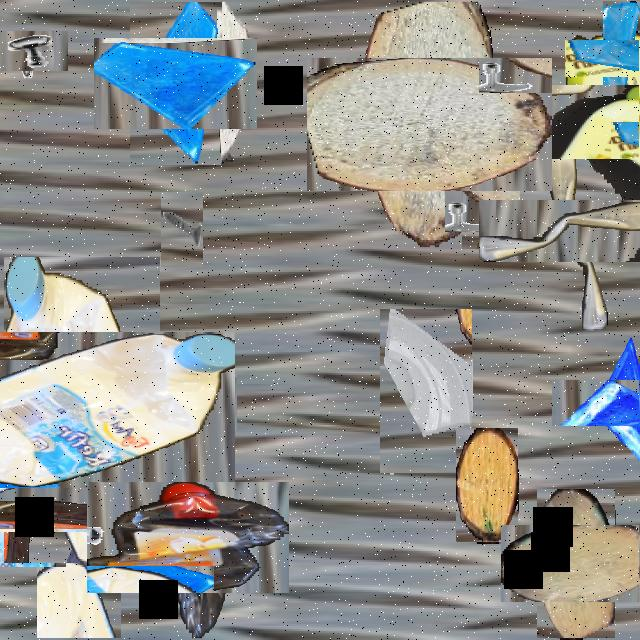glass: (112, 20, 240, 147), (380, 309, 472, 473), (37, 489, 121, 638), (0, 449, 83, 549), (572, 359, 640, 447), (583, 20, 640, 96)
metal: (144, 362, 226, 442), (454, 182, 512, 241), (161, 192, 203, 267), (5, 24, 61, 79)
plastic: (0, 295, 197, 526), (110, 458, 266, 616), (512, 165, 640, 296), (539, 58, 640, 186)
wood: (335, 30, 525, 219), (519, 507, 633, 620), (456, 428, 518, 542), (217, 2, 249, 162)
